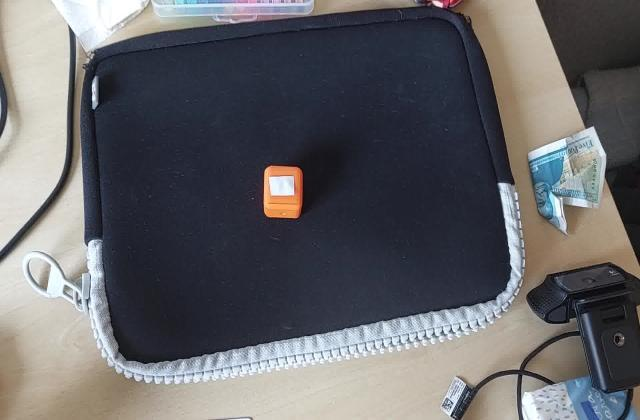sticker: (260, 165, 304, 221)
white: (268, 175, 298, 198)
